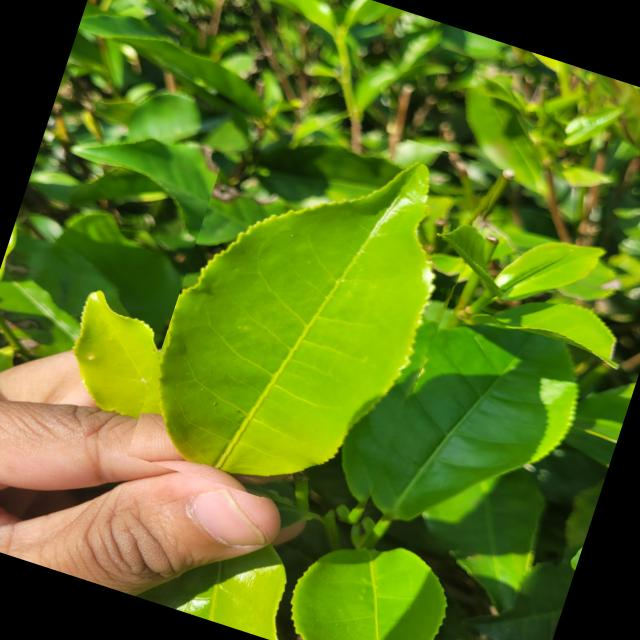Catagory A(1-2 days): (126, 87, 504, 539)
